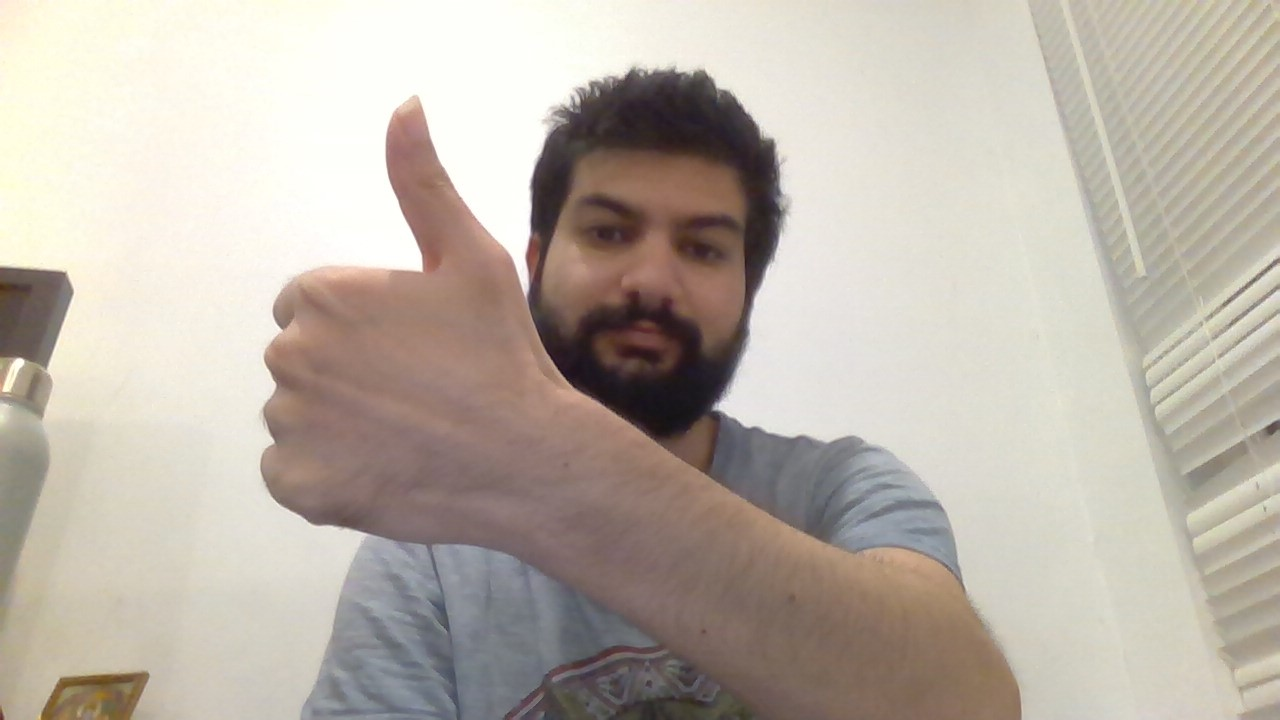up: (246, 82, 535, 548)
